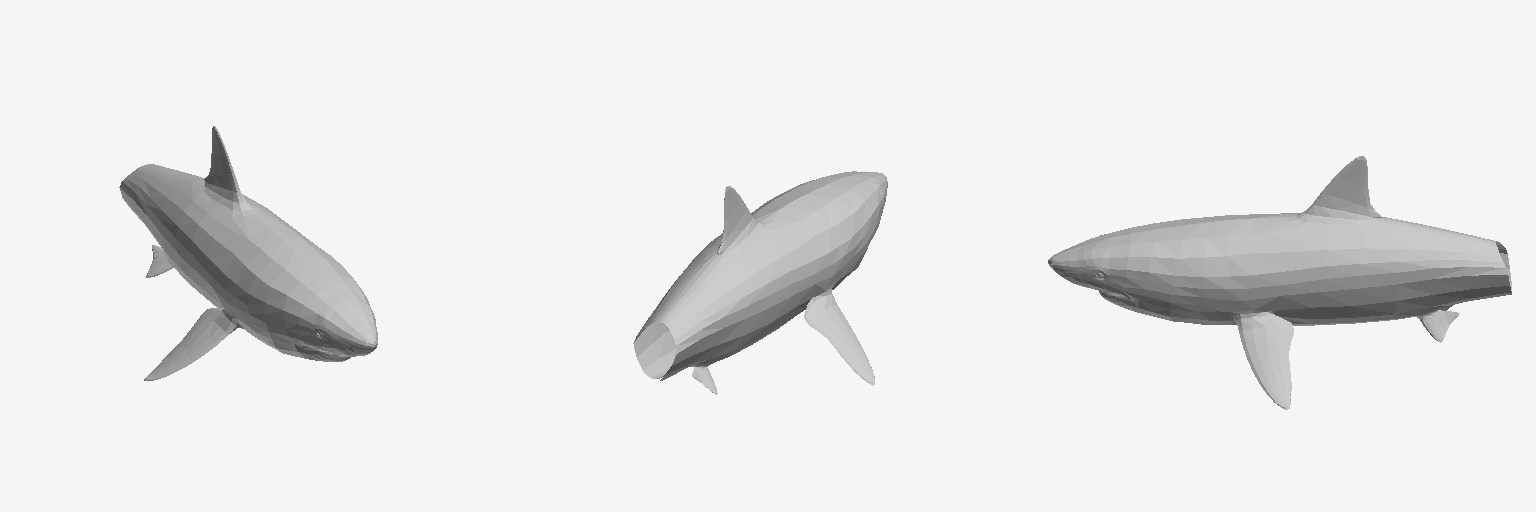
Rendered from tiburonCuerpo.obj.
The picture shows the model from 3 angles: view 1: azimuth 30°, elevation 25°; view 2: azimuth 150°, elevation 25°; view 3: azimuth 270°, elevation 25°; orthographic projection.
Parts seen in each view (by area): view 1: tiburonCuerpo4:Shark_01SG1; view 2: tiburonCuerpo4:Shark_01SG1; view 3: tiburonCuerpo4:Shark_01SG1.
Part boxes in pixels (x1,y1,x2,y2): tiburonCuerpo4:Shark_01SG1: (119,126,377,380); tiburonCuerpo4:Shark_01SG1: (633,171,887,394); tiburonCuerpo4:Shark_01SG1: (1048,156,1511,409).
Size of the model in its own units: 3.86 by 3.39 by 7.1.